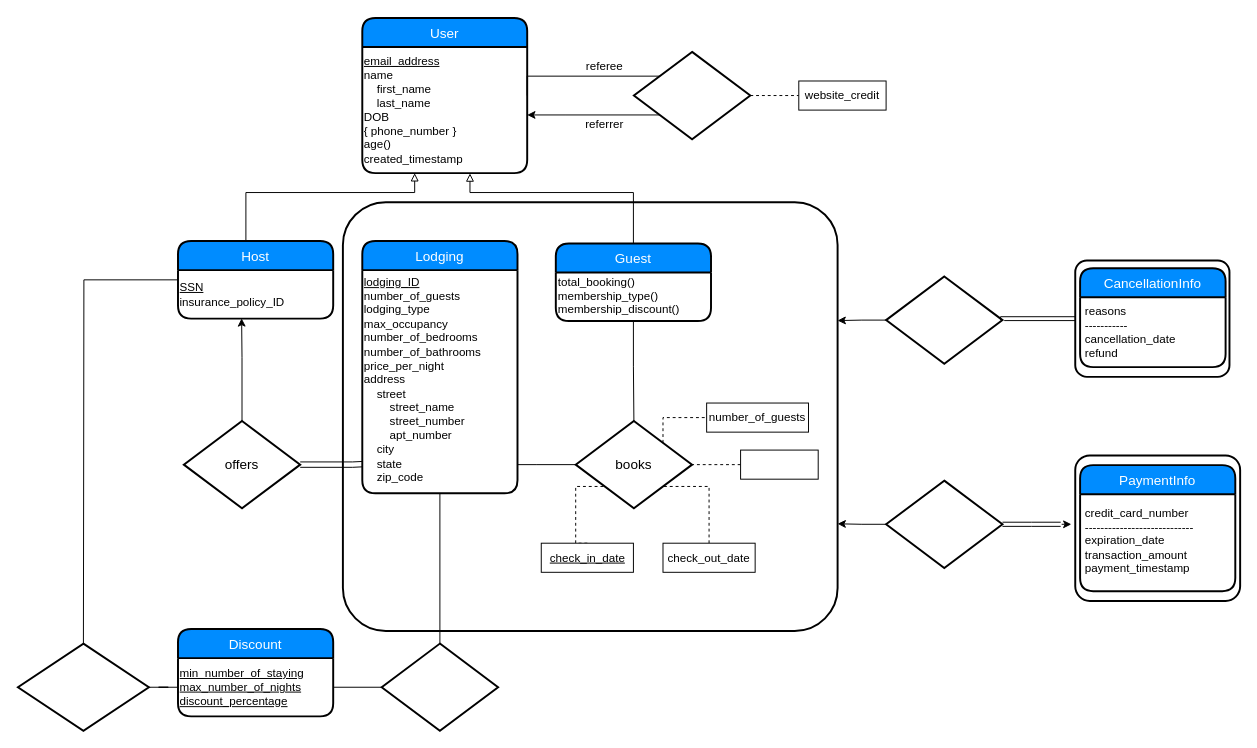
The diagram is 1257 pixels wide and 748 high, and some of its shapes have lost their labels. The centre of each missing label's shape, as x and y in pixels:
applies: point (439, 686)
booking_cost: point (779, 464)
cancels_with: point (944, 319)
discount_offers: point (82, 686)
pays_with: point (944, 523)
refers: point (691, 95)
